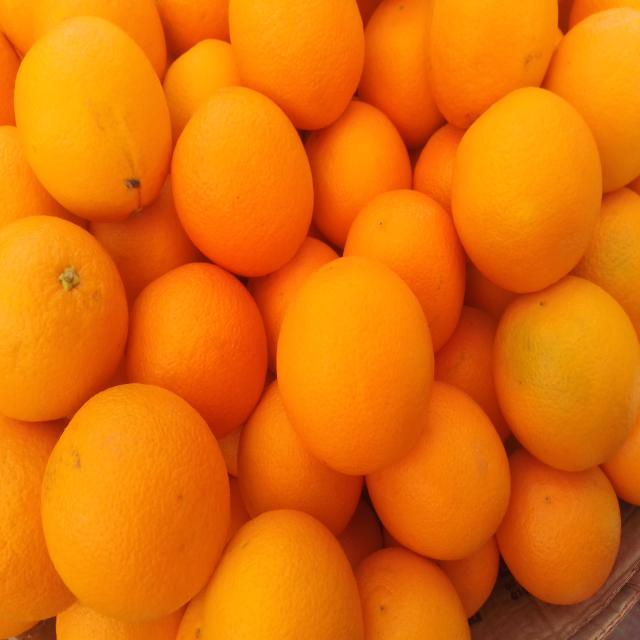orange: (42, 384, 229, 621), (278, 257, 433, 474), (15, 17, 171, 221), (452, 88, 601, 292), (494, 276, 639, 471), (172, 88, 313, 276), (0, 216, 128, 420), (367, 382, 509, 559), (126, 263, 267, 438), (202, 510, 363, 639), (344, 190, 465, 351), (238, 381, 363, 535), (497, 449, 620, 604), (544, 8, 639, 192), (229, 0, 364, 129), (427, 0, 557, 128), (0, 416, 74, 637), (306, 101, 411, 247), (90, 176, 204, 305), (358, 0, 444, 148), (248, 237, 338, 372), (34, 0, 166, 80), (356, 549, 470, 639), (435, 307, 510, 441), (573, 188, 639, 336), (0, 126, 86, 228), (163, 39, 241, 144), (435, 536, 499, 618), (438, 536, 499, 618), (413, 124, 465, 214), (56, 603, 184, 639), (156, 0, 229, 56), (601, 413, 639, 505), (338, 500, 383, 570), (465, 263, 517, 320), (563, 0, 639, 28), (0, 0, 35, 57), (0, 33, 20, 125), (173, 587, 206, 639), (227, 475, 251, 540), (218, 425, 244, 478), (218, 426, 243, 477), (0, 618, 38, 638), (357, 0, 381, 27), (558, 0, 574, 34), (382, 526, 406, 548), (627, 175, 639, 194), (554, 28, 563, 50)
